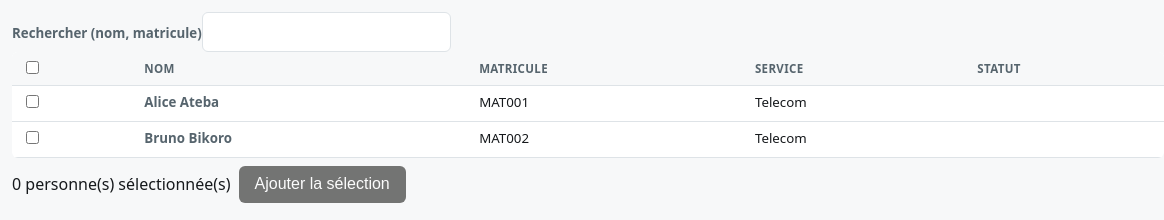
Test: SelectionPersonnesABord › ajout en lot : soumet exactement les identifiants selectionnes, puis reinitialise la selection
Check: the text "Alice Ateba" is shown, box [144,93,219,111]
Click the checkbox named "Sélectionner Alice Ateba": (32, 102) [26,95,39,108]
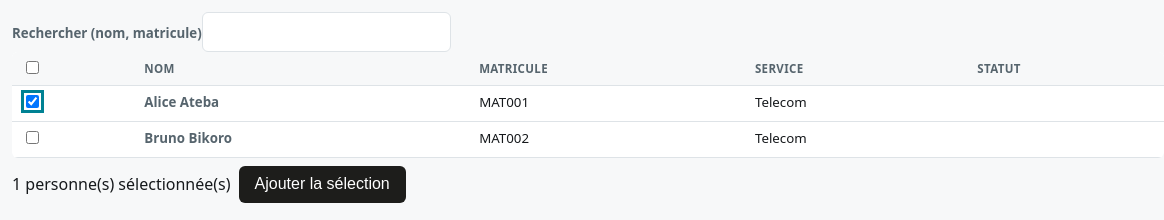
Click the button "Ajouter la sélection": (322, 184) [239,166,406,203]
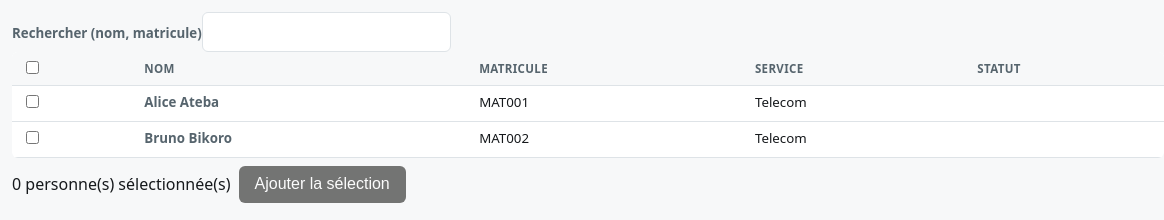
Check: the text "0 personne(s) sélectionnée(s)" is shown, box [12,172,231,196]
